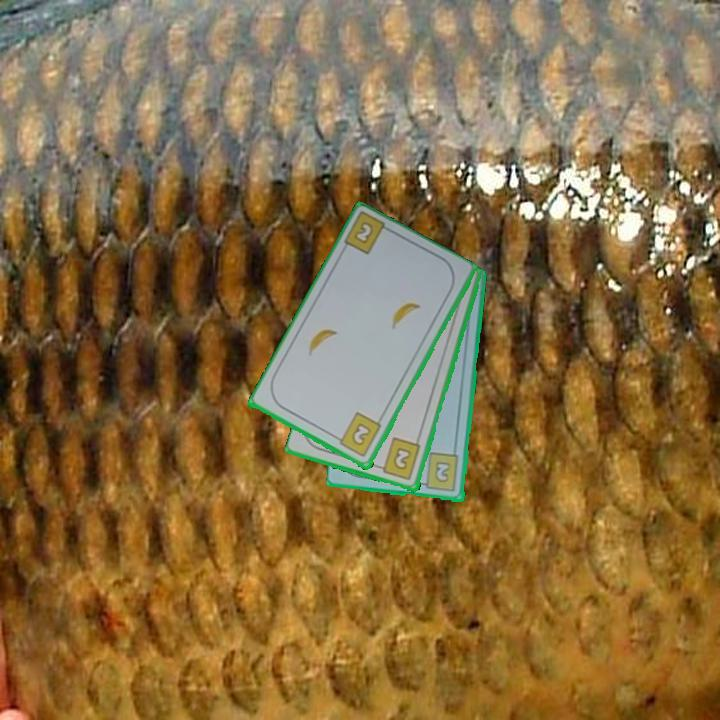2b: (331, 409, 384, 460), (374, 435, 424, 483), (417, 450, 462, 494), (350, 218, 377, 247)
